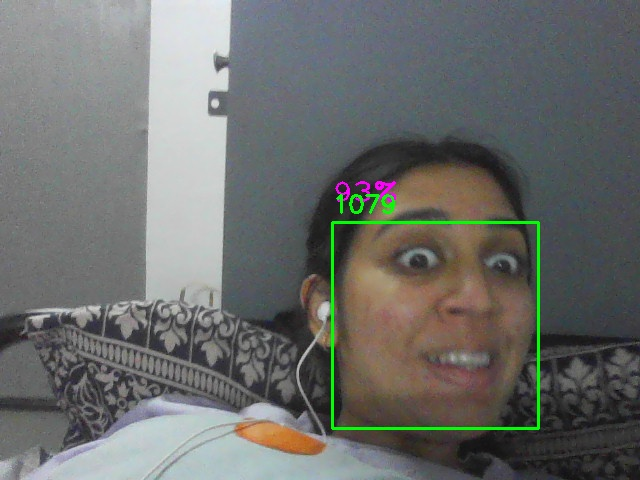real: (332, 222, 539, 429)
